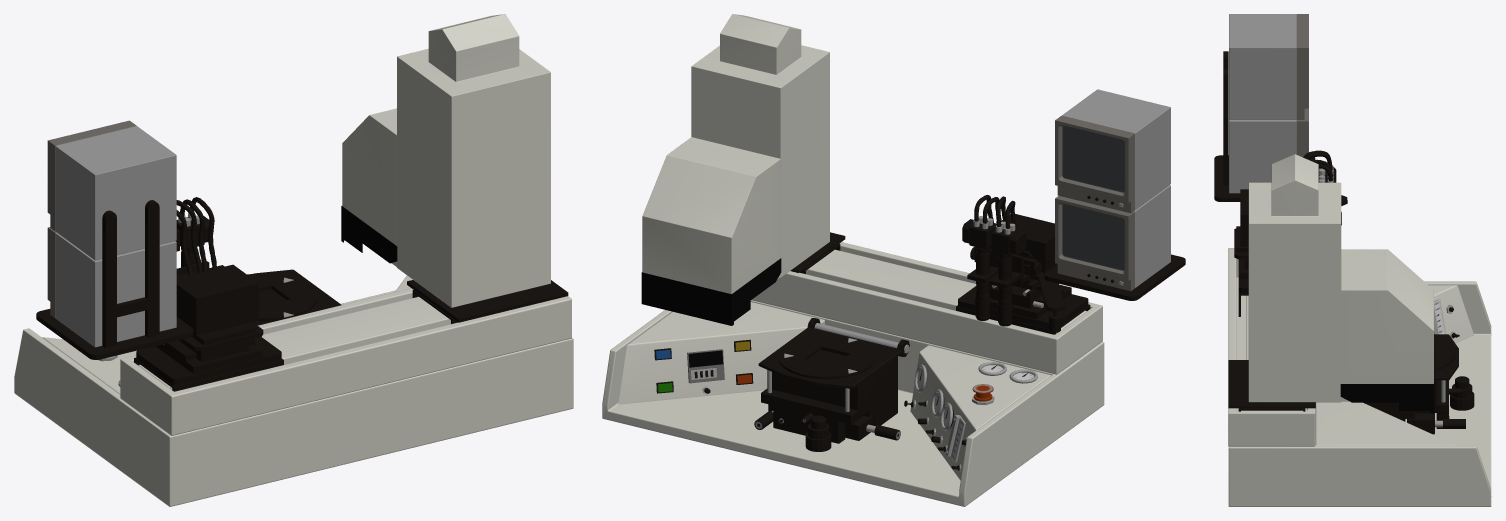
File: mask_aligner.fbx
The picture shows the model from 3 angles, left to right: view 1: azimuth 30°, elevation 25°; view 2: azimuth 150°, elevation 25°; view 3: azimuth 270°, elevation 25°; orthographic projection. The views are drawn at different scales.
Parts seen in each view (by area): view 1: Base, Cube.001, SliderHolder, TV.001, TV.002, SlideHolderInner, Cube.002, CubeHolder, Cube.017, Cube, Cube.014, Cube.006 (+11 smaller); view 2: Base, Cube.001, Cube.002, SliderHolder, ControllerHolder.R, Slice.011, ControllerHolder.L, Slice.019, TV.001, SlideHolderInner, Cube.002_Plate, WaferHolder (+14 smaller); view 3: Cube.001, Base, Cube.002, TV.001, SliderHolder, ControllerHolder.R, TV.002, Cube.002_Plate, Cube, ControllerHolder.L, Slice.011, Cube.017 (+10 smaller).
Part boxes in pixels (x1,y1,x2,y2): Base: (14, 290, 573, 506); Cube.001: (397, 14, 550, 307); SliderHolder: (120, 288, 571, 435); TV.001: (55, 126, 176, 260); TV.002: (55, 232, 176, 347); SlideHolderInner: (138, 296, 450, 389); Cube.002: (342, 108, 396, 266); CubeHolder: (176, 264, 258, 335); Cube.017: (102, 200, 159, 348); Cube: (407, 280, 568, 322); Cube.014: (36, 309, 193, 359); Cube.006: (136, 337, 281, 385); Base: (602, 300, 1104, 506); Cube.001: (691, 14, 829, 277); Cube.002: (642, 137, 780, 293); SliderHolder: (751, 242, 1102, 374); ControllerHolder.R: (618, 302, 824, 404); Slice.011: (1055, 115, 1134, 213); ControllerHolder.L: (910, 345, 1050, 480); Slice.019: (1055, 196, 1134, 291); TV.001: (1062, 89, 1170, 209); SlideHolderInner: (806, 249, 1086, 333); Cube.002_Plate: (641, 258, 781, 325); WaferHolder: (767, 350, 897, 426); Cube.001: (1248, 154, 1341, 402); Base: (1228, 281, 1491, 506); Cube.002: (1341, 249, 1433, 401); TV.001: (1229, 14, 1296, 119); SliderHolder: (1228, 248, 1315, 446); ControllerHolder.R: (1315, 401, 1456, 445); TV.002: (1229, 120, 1296, 193); Cube.002_Plate: (1340, 343, 1434, 413); Cube: (1228, 360, 1315, 408); ControllerHolder.L: (1429, 285, 1473, 343); Slice.011: (1296, 14, 1308, 119); Cube.017: (1223, 51, 1228, 184).
Size of the model in its own units: 109 by 79.38 by 63.22.
